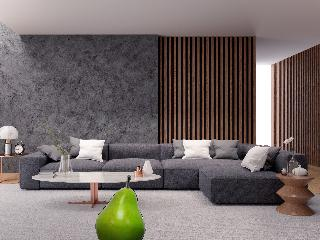pear: (95, 174, 145, 240)
